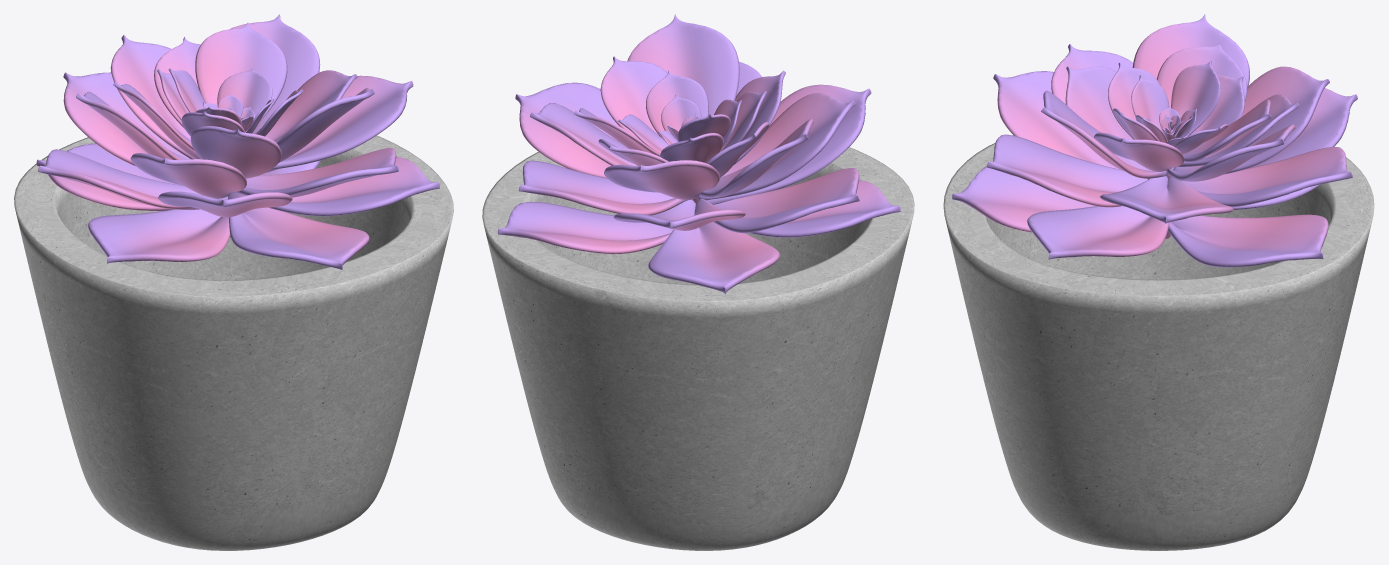
File: PERLE_VON_NERNBERG_CEMENT_ROUND_POT.glb
3 renders of one model, left to right at view 1: azimuth 30°, elevation 25°; view 2: azimuth 150°, elevation 25°; view 3: azimuth 270°, elevation 25°, orthographic.
Visible parts, largest first — view 1: pot02_v1, Vase 2; view 2: pot02_v1, Vase 2; view 3: pot02_v1, Vase 2.
Boxes of the visible parts, box(x1,y1,x2,y2) form: pot02_v1: box(14, 135, 453, 550); Vase 2: box(36, 14, 439, 269); pot02_v1: box(482, 147, 914, 550); Vase 2: box(497, 14, 900, 293); pot02_v1: box(943, 143, 1374, 550); Vase 2: box(952, 14, 1357, 267).
Size of the model in its own units: 1.12 by 1.24 by 1.12.
2 materials, 2 textured.
